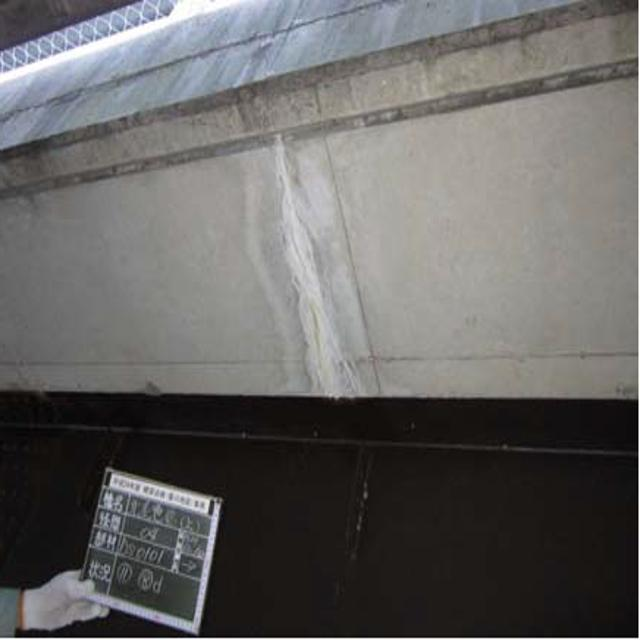freelime: (263, 120, 363, 400)
